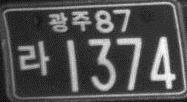1: (63, 37, 80, 93)
3: (85, 37, 117, 93)
4: (148, 35, 177, 91)
7: (115, 36, 144, 92), (112, 8, 132, 34)
8: (93, 8, 114, 34)
광주_O: (47, 9, 92, 34)
라: (16, 40, 50, 76)
